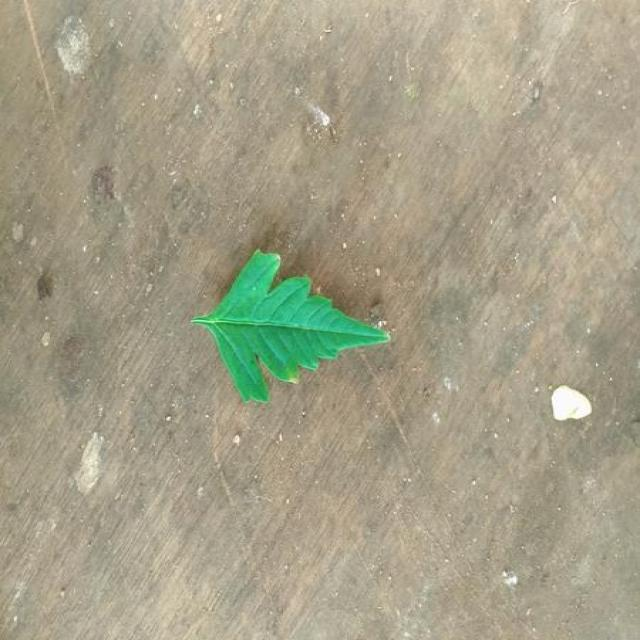balloon_Vine: (192, 250, 390, 402)
